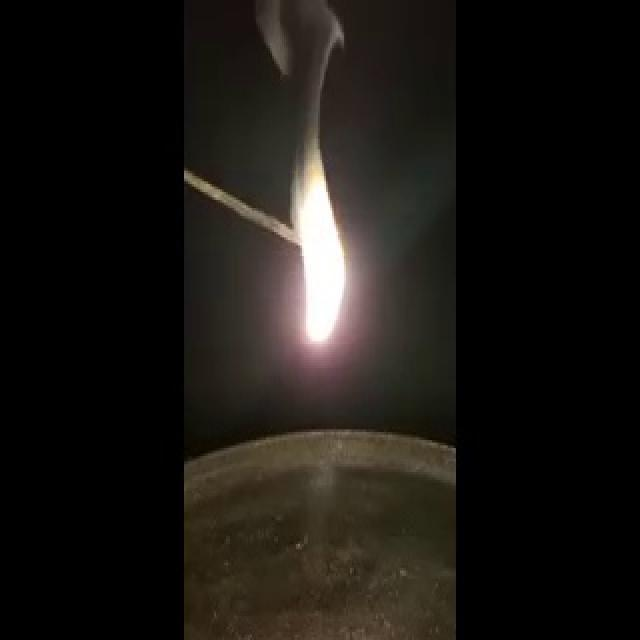fire: (274, 104, 356, 366)
